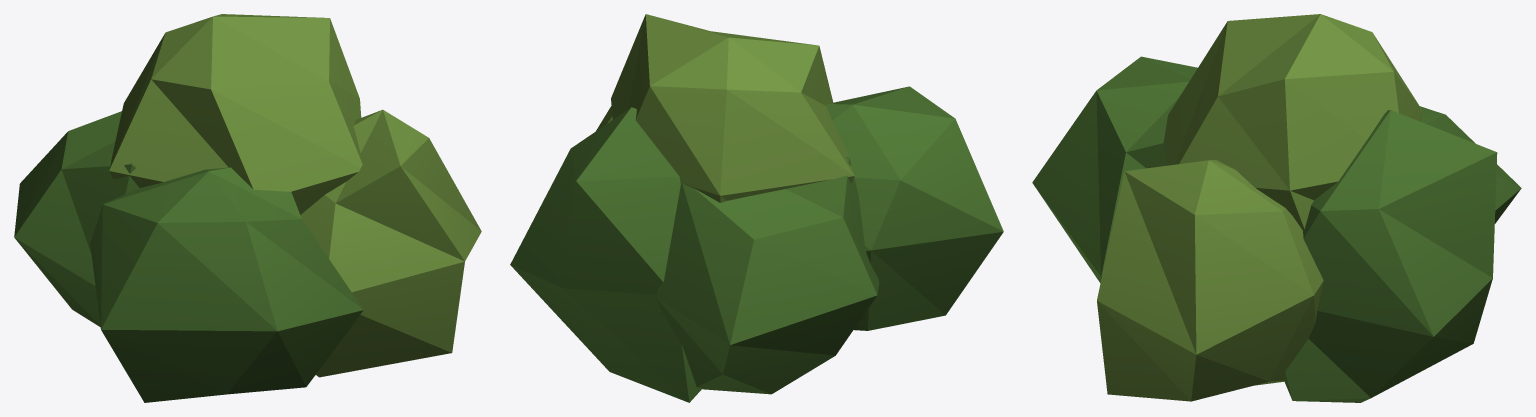
The model's file is bush_3.glb.
3 renders of one model, left to right at view 1: azimuth 30°, elevation 25°; view 2: azimuth 150°, elevation 25°; view 3: azimuth 270°, elevation 25°, orthographic. The views are drawn at different scales.
Visible parts, largest first — view 1: bush_3; view 2: bush_3; view 3: bush_3.
Part boxes in pixels (<box>): bush_3: <box>14,14,481,402</box>; bush_3: <box>510,14,1003,402</box>; bush_3: <box>1032,14,1521,402</box>.
Size of the model in its own units: 0.4684 by 0.3872 by 0.4699.
